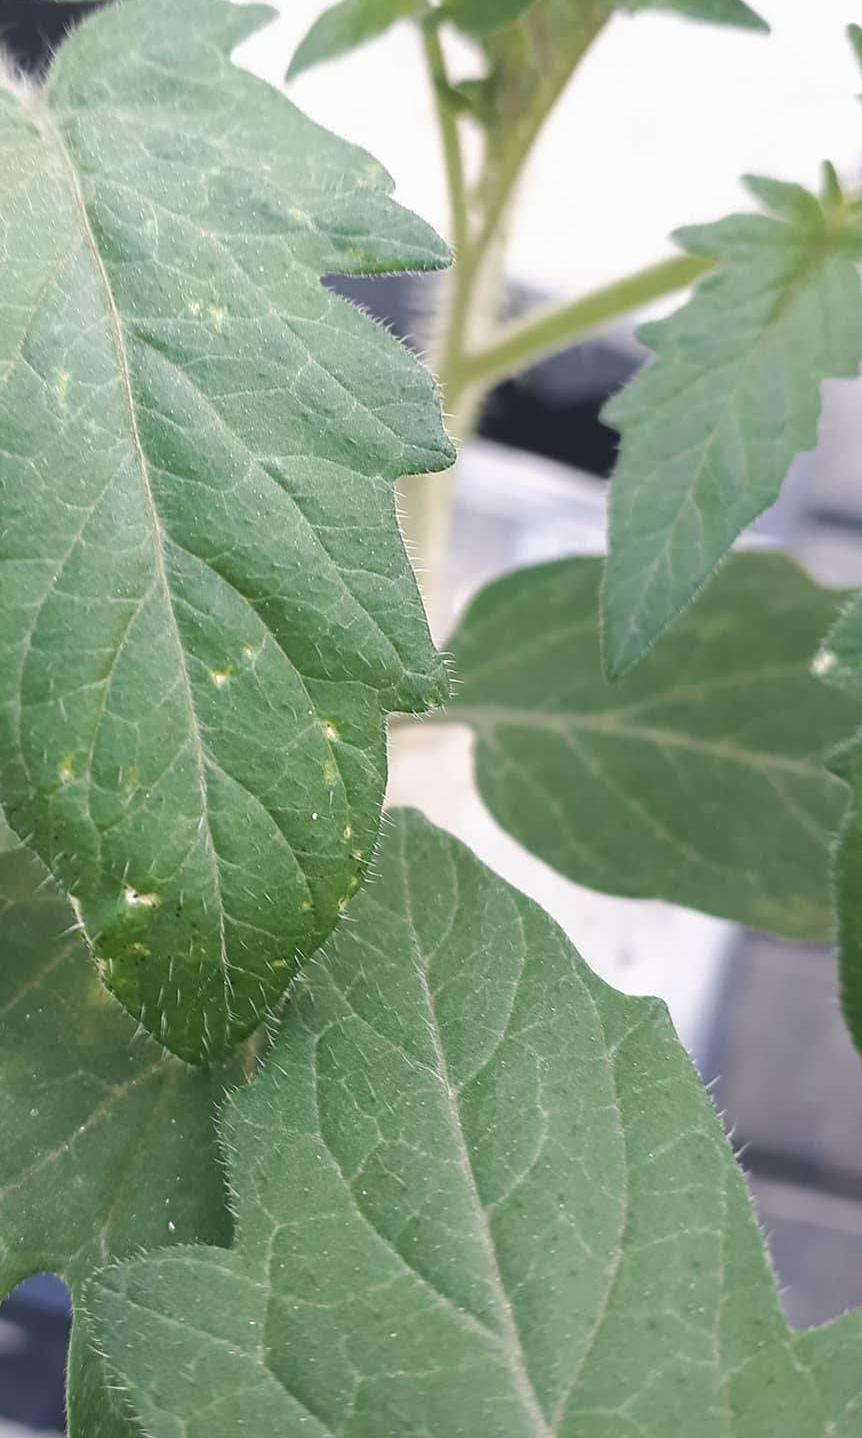Tomato mold leaf: (0, 0, 477, 1087), (87, 771, 862, 1438)
